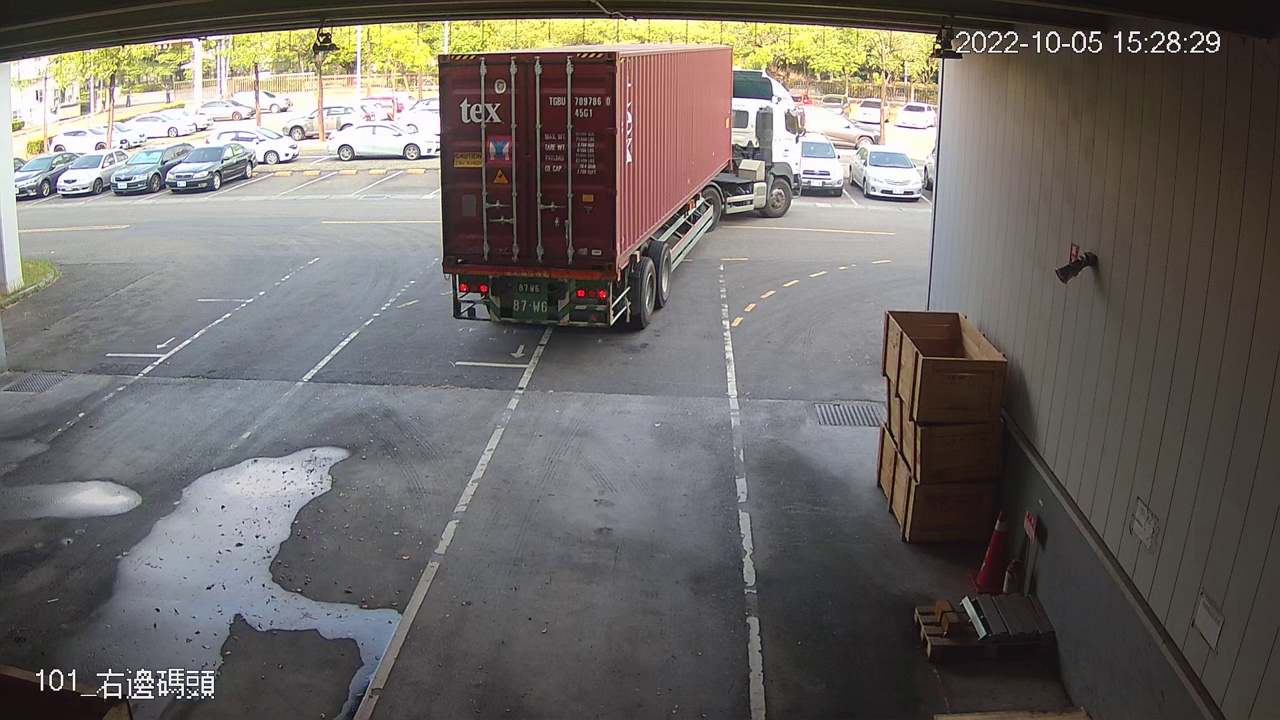container: (543, 91, 613, 122)
